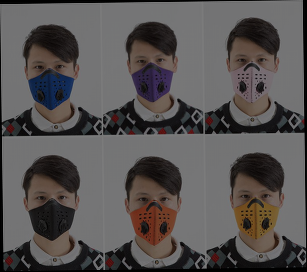with_mask: (131, 189, 178, 245), (27, 187, 75, 240), (28, 58, 73, 111), (231, 51, 276, 103), (234, 188, 280, 238), (133, 52, 174, 103)
